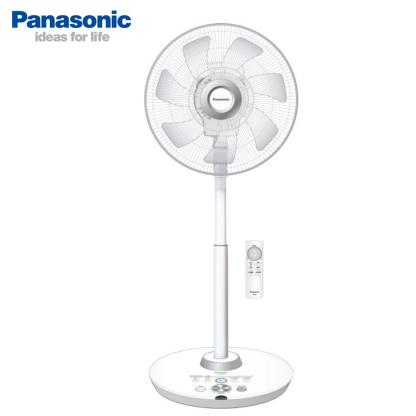fan: (136, 9, 309, 416)
